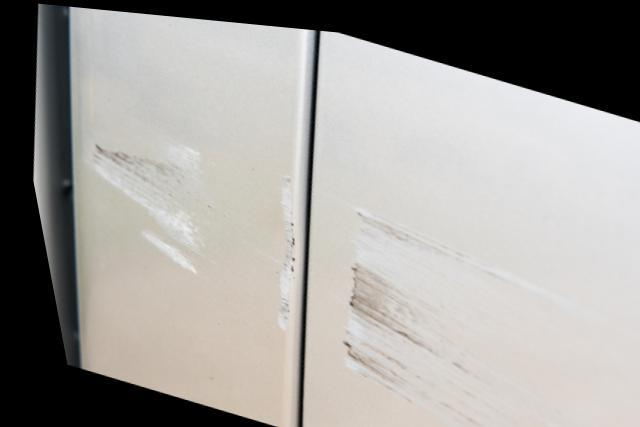scratch: (326, 196, 602, 427), (74, 136, 290, 331)
